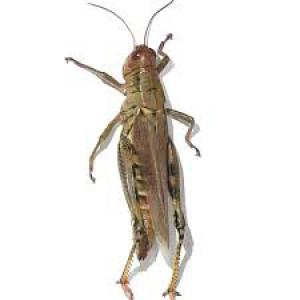locust: (78, 2, 220, 300)
